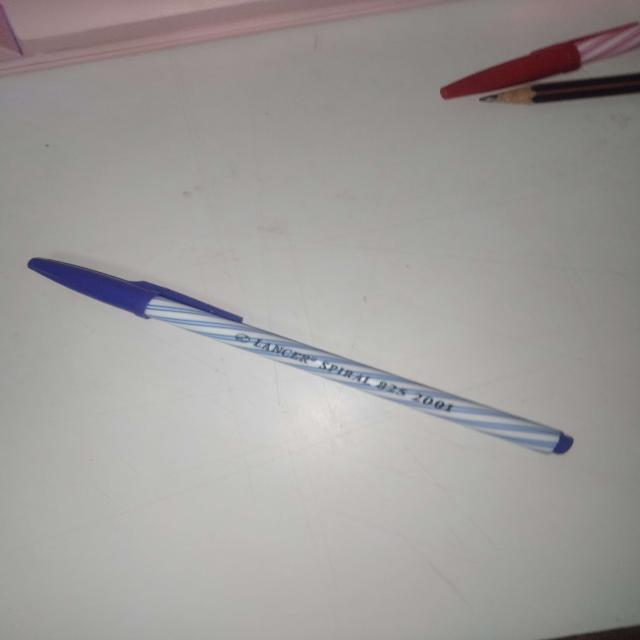pen_pencil: (21, 222, 594, 498)
